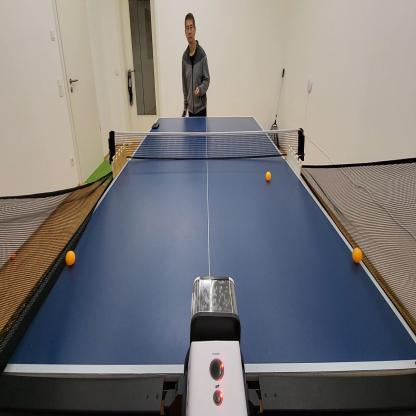Ball: (352, 247, 362, 264), (65, 250, 75, 266), (266, 170, 271, 182), (10, 250, 16, 260), (103, 183, 106, 188)
